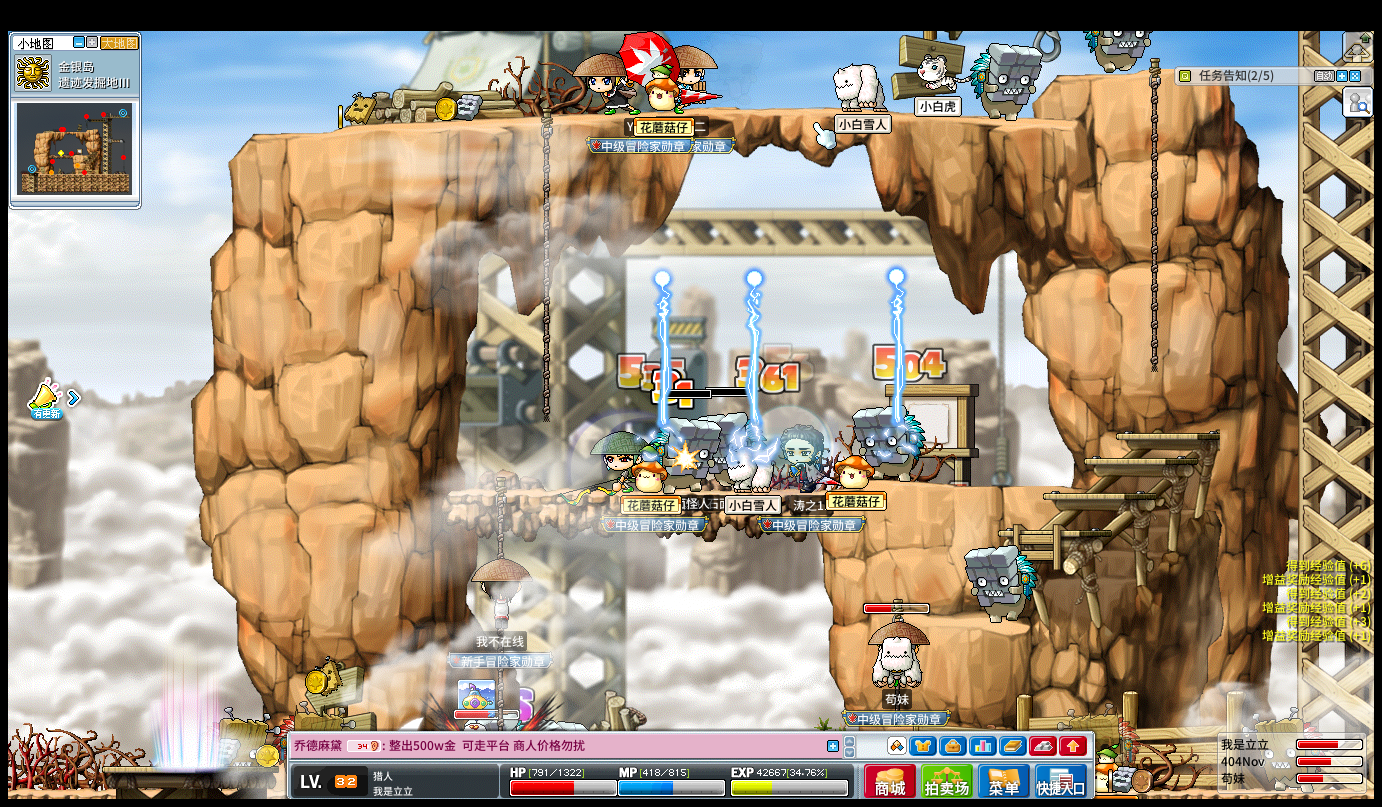floor: (233, 104, 1087, 138), (444, 489, 837, 502), (444, 488, 826, 499), (922, 614, 1028, 634), (891, 481, 1087, 491), (902, 482, 1075, 493), (1055, 69, 1162, 82), (1115, 429, 1221, 441), (1077, 456, 1196, 465), (1044, 492, 1157, 500), (1003, 528, 1110, 536)
monster: (970, 41, 1045, 121), (964, 545, 1037, 624), (853, 405, 925, 481), (214, 711, 281, 792), (1242, 711, 1305, 791), (712, 413, 763, 477), (654, 417, 722, 453)
rope: (1148, 57, 1161, 374), (539, 110, 551, 427), (1146, 57, 1158, 371), (491, 480, 505, 559)
